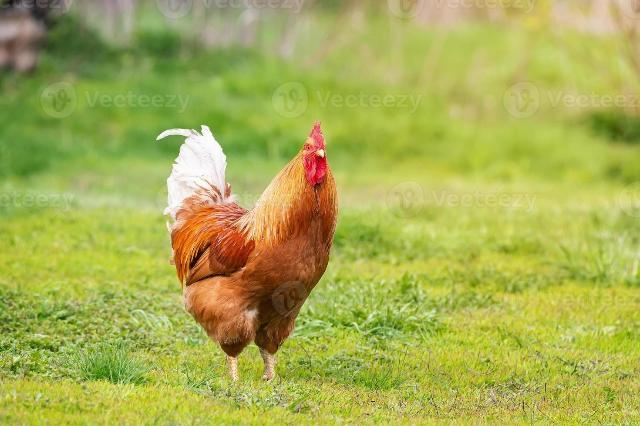Chicken: (156, 122, 339, 381)
